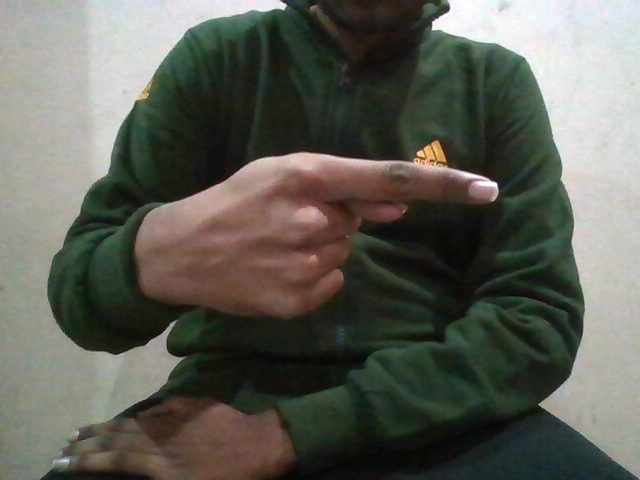G: (151, 147, 497, 318)
